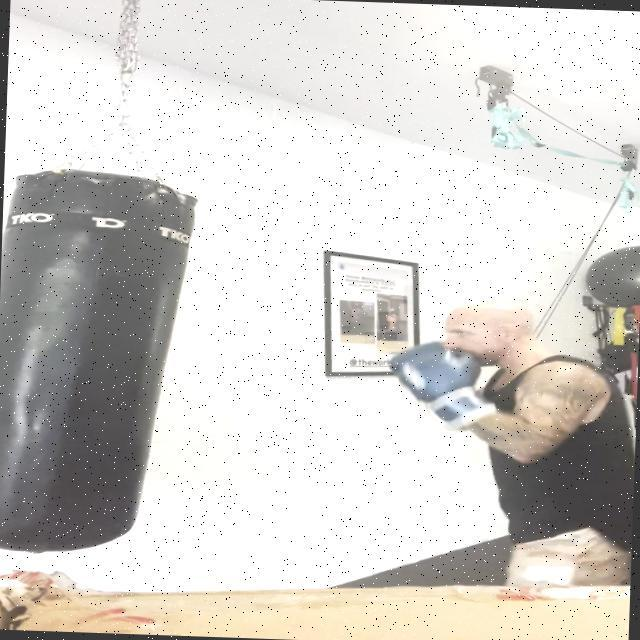bag: (0, 163, 197, 560)
no punch: (372, 290, 626, 466)
